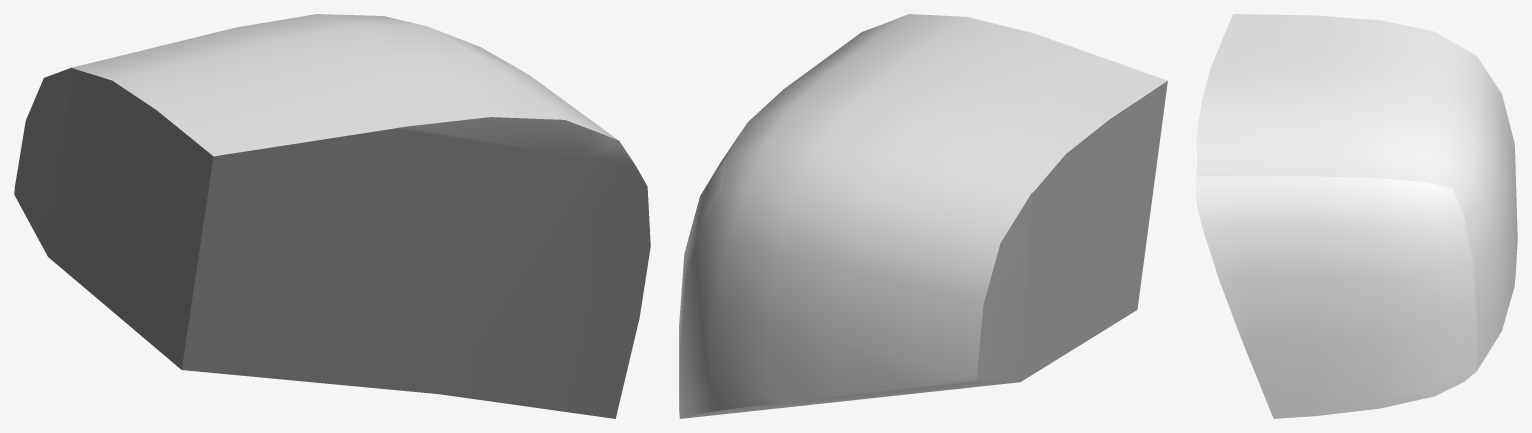
Rendered from Happy_Box1.fbx.
3 renders of one model, left to right at view 1: azimuth 30°, elevation 25°; view 2: azimuth 150°, elevation 25°; view 3: azimuth 270°, elevation 25°, orthographic. The views are drawn at different scales.
Parts seen in each view (by area): view 1: Happy_Box1; view 2: Happy_Box1; view 3: Happy_Box1.
Part boxes in pixels (x1,y1,x2,y2): Happy_Box1: (14, 14, 650, 418); Happy_Box1: (679, 14, 1167, 418); Happy_Box1: (1196, 14, 1517, 418).
Size of the model in its own units: 21.13 by 18.22 by 20.2.
Materials: 2 (1 with a texture image).
